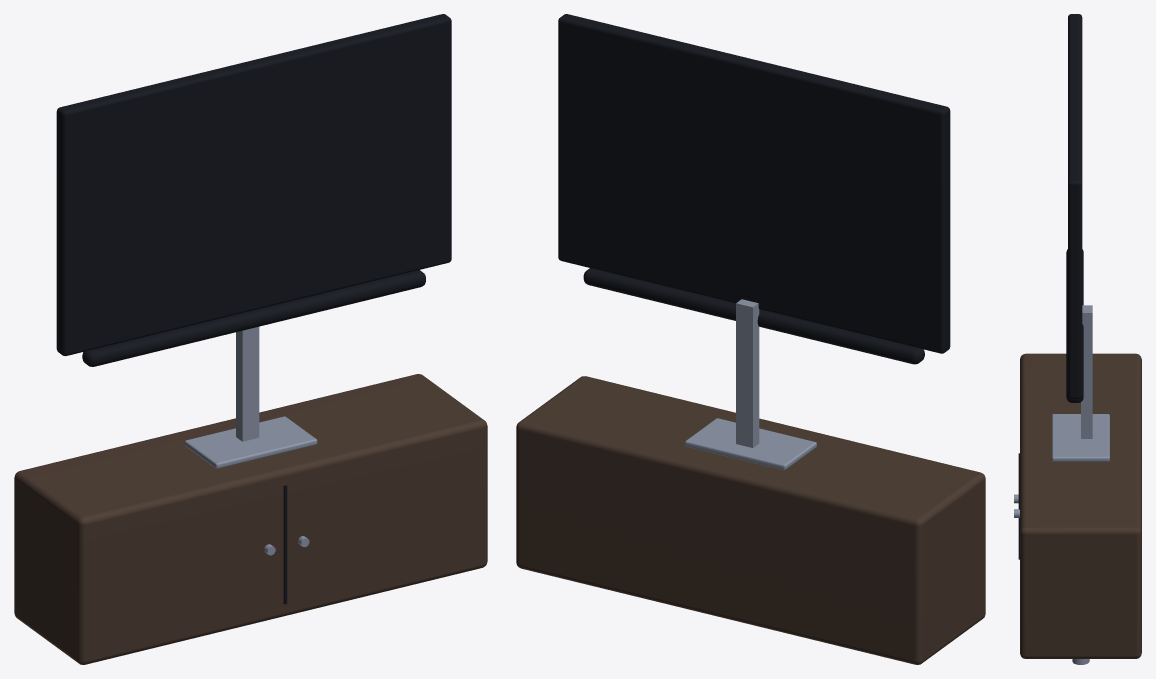
The picture shows the model from 3 angles, left to right: view 1: azimuth 30°, elevation 25°; view 2: azimuth 150°, elevation 25°; view 3: azimuth 270°, elevation 25°; orthographic projection. The views are drawn at different scales.
Visible parts, largest first — view 1: bezel, cabinet, foot_-1; view 2: bezel, cabinet, foot_-1; view 3: cabinet, bezel, foot_-1.
Boxes of the visible parts, box(x1,y1,x2,y2) form: bezel: box(56, 14, 451, 604); cabinet: box(14, 374, 487, 664); foot_-1: box(184, 326, 317, 555); bezel: box(558, 14, 950, 364); cabinet: box(516, 376, 985, 664); foot_-1: box(685, 299, 816, 470); cabinet: box(1020, 353, 1141, 658); bezel: box(1018, 14, 1083, 559); foot_-1: box(1014, 305, 1109, 664).
Size of the model in its own units: 1.45 by 1.87 by 0.44.
